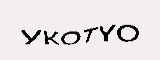К: (42, 28, 60, 45)
О: (116, 22, 141, 44), (60, 27, 81, 47)
Т: (84, 25, 98, 45)
У: (19, 28, 40, 45)
Ү: (99, 23, 116, 45)
